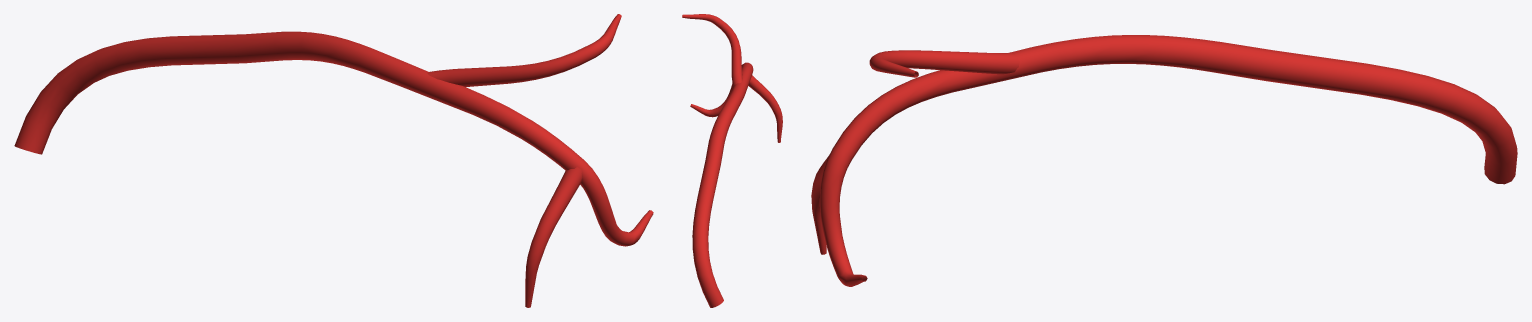
Rendered from circulatorio-lumbar-branch-of-iliolumbar-artery-l.glb.
The picture shows the model from 3 angles, left to right: view 1: azimuth 30°, elevation 25°; view 2: azimuth 150°, elevation 25°; view 3: azimuth 270°, elevation 25°; orthographic projection. The views are drawn at different scales.
Parts seen in each view (by area): view 1: Lumbar branch of iliolumbar artery.l; view 2: Lumbar branch of iliolumbar artery.l; view 3: Lumbar branch of iliolumbar artery.l.
Part boxes in pixels (x1,y1,x2,y2): Lumbar branch of iliolumbar artery.l: (14,14,653,307); Lumbar branch of iliolumbar artery.l: (682,14,782,307); Lumbar branch of iliolumbar artery.l: (811,35,1517,286).
Bounding box in the file's own units: 0.0276 × 0.0194 × 0.044.
